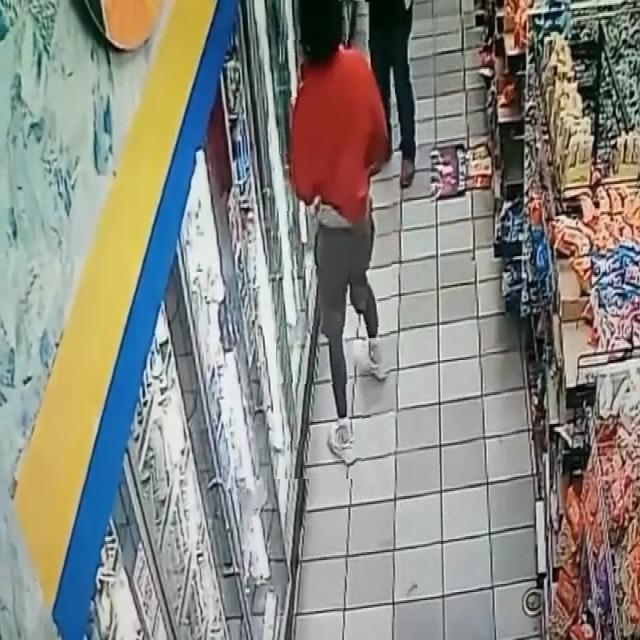Normal: (276, 0, 395, 479)
